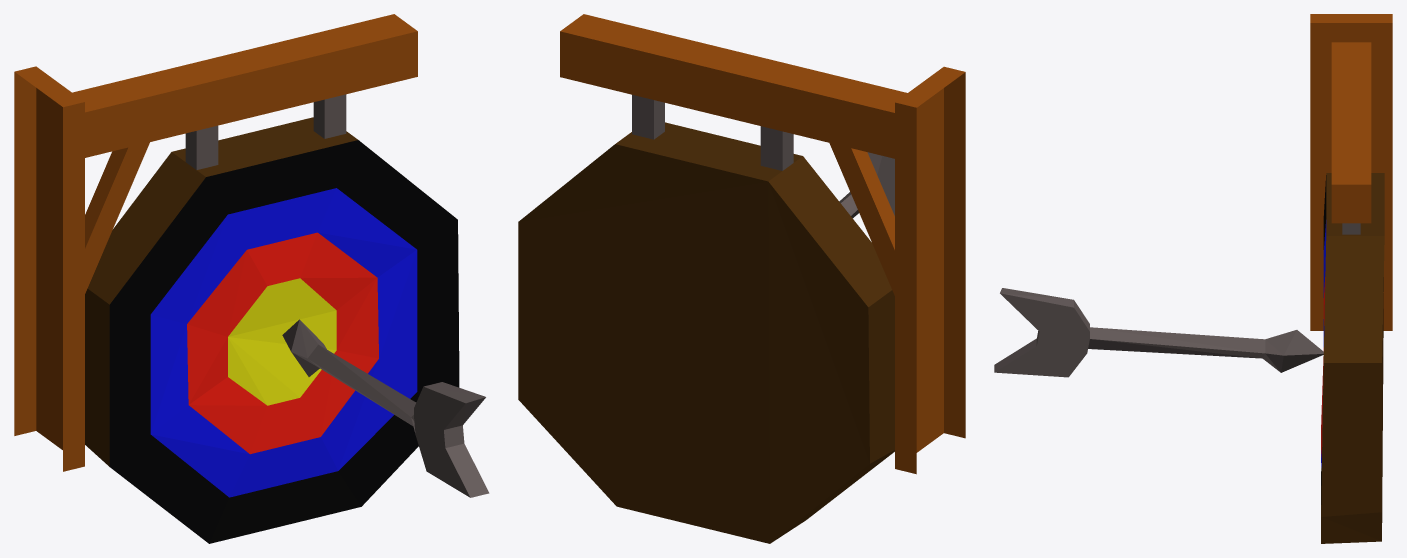
Rendered from model_loc_1060_q.obj.
3 views of the same model, side by side, from view 1: azimuth 30°, elevation 25°; view 2: azimuth 150°, elevation 25°; view 3: azimuth 270°, elevation 25° (orthographic). The views are drawn at different scales.
Visible parts, largest first — view 1: 1915; view 2: 1915; view 3: 1915.
Part boxes in pixels (x1,y1,x2,y2): 1915: (14,14,489,543); 1915: (518,14,965,543); 1915: (994,14,1392,543).
Bounding box in the file's own units: 148 × 168 × 150.
